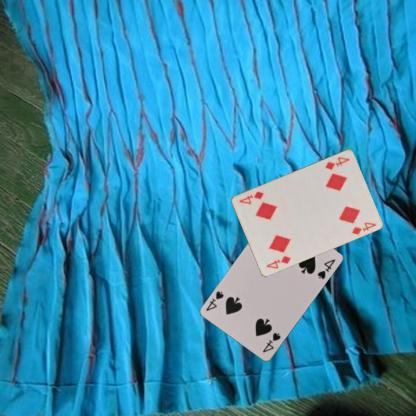4d: (264, 253, 292, 270), (322, 154, 351, 170)
4s: (260, 330, 282, 354)
